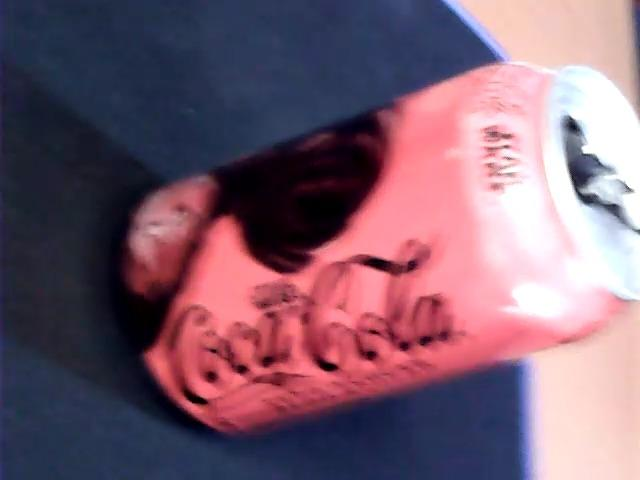coke: (94, 46, 630, 437)
